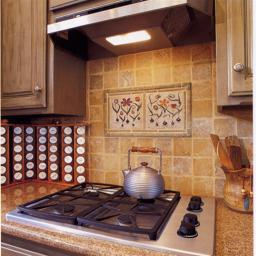Electrodomestico: (16, 179, 215, 255)
